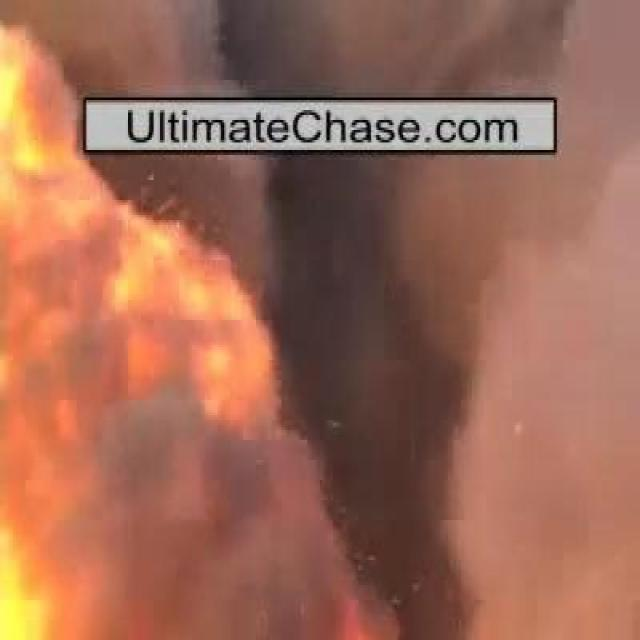Smoke: (39, 164, 588, 564)
